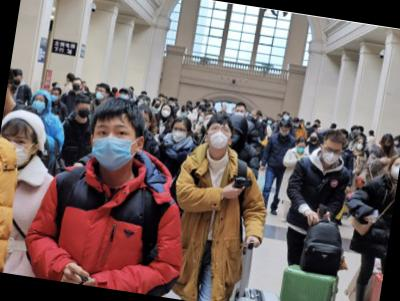with_mask: (88, 119, 141, 174), (205, 122, 234, 152), (321, 144, 342, 165), (170, 124, 190, 144), (31, 94, 49, 114), (76, 104, 92, 119), (389, 158, 400, 179), (50, 89, 62, 103), (381, 139, 395, 151), (202, 114, 213, 129), (96, 87, 108, 100), (160, 107, 172, 118), (295, 142, 306, 154), (354, 139, 365, 151), (235, 107, 247, 117), (72, 81, 83, 91), (119, 90, 130, 100), (279, 127, 290, 136), (13, 76, 23, 85), (310, 133, 319, 143), (180, 109, 188, 117), (154, 101, 162, 108), (283, 113, 290, 121), (293, 121, 300, 127)
without_mask: (221, 106, 228, 113)
